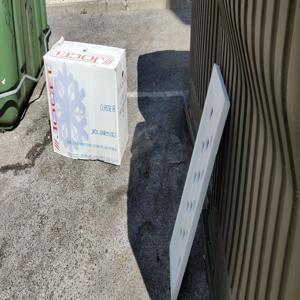cardboard: (39, 36, 145, 164)
plastic: (161, 61, 232, 296)
